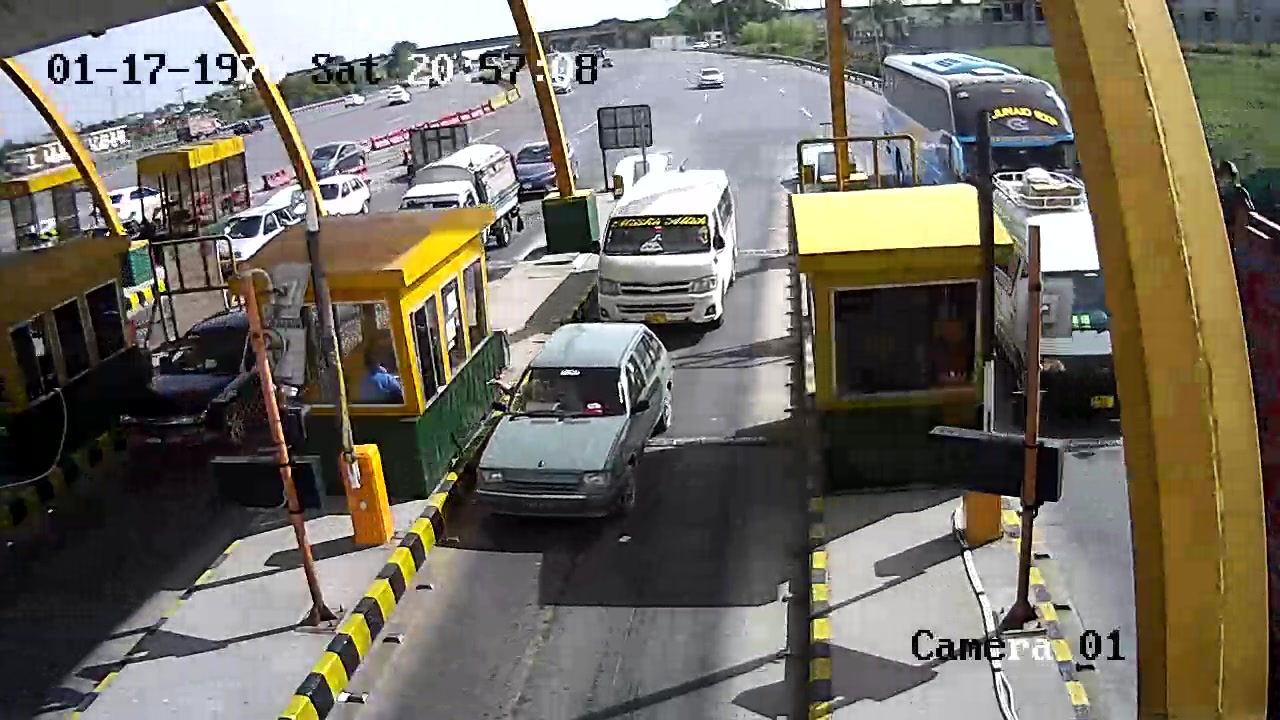F1: (471, 322, 689, 539)
F2: (588, 161, 744, 331)
